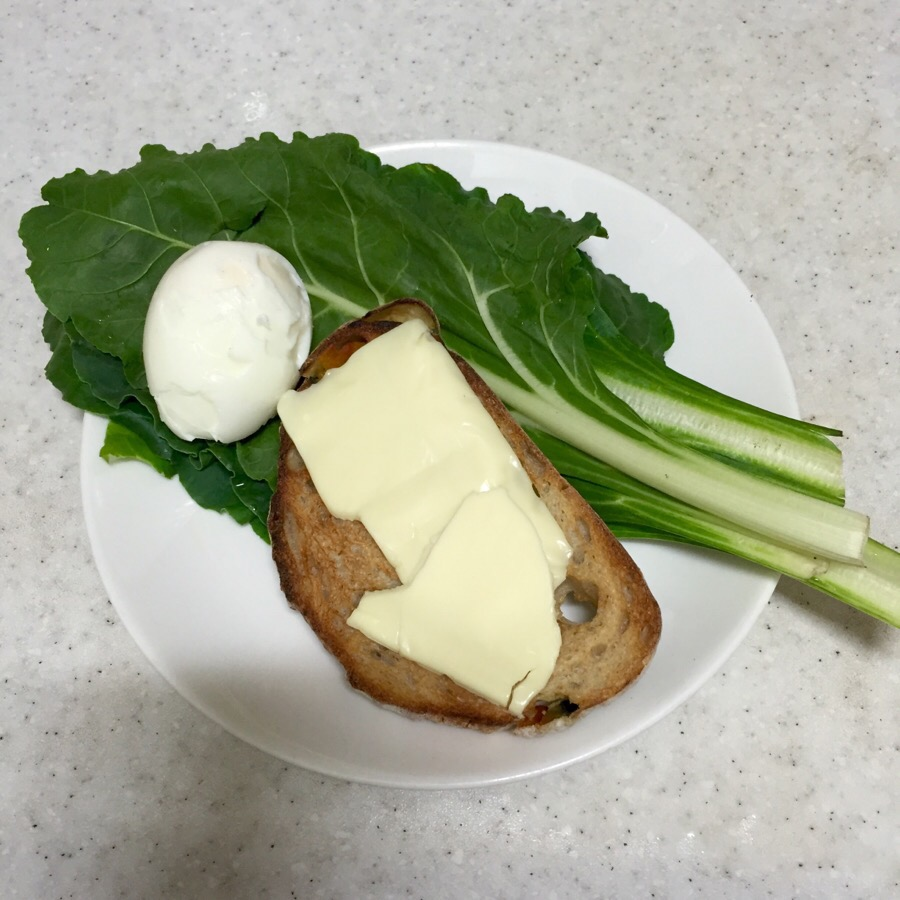chopped lettuce: (303, 169, 890, 560)
slice of bread: (254, 304, 645, 726)
